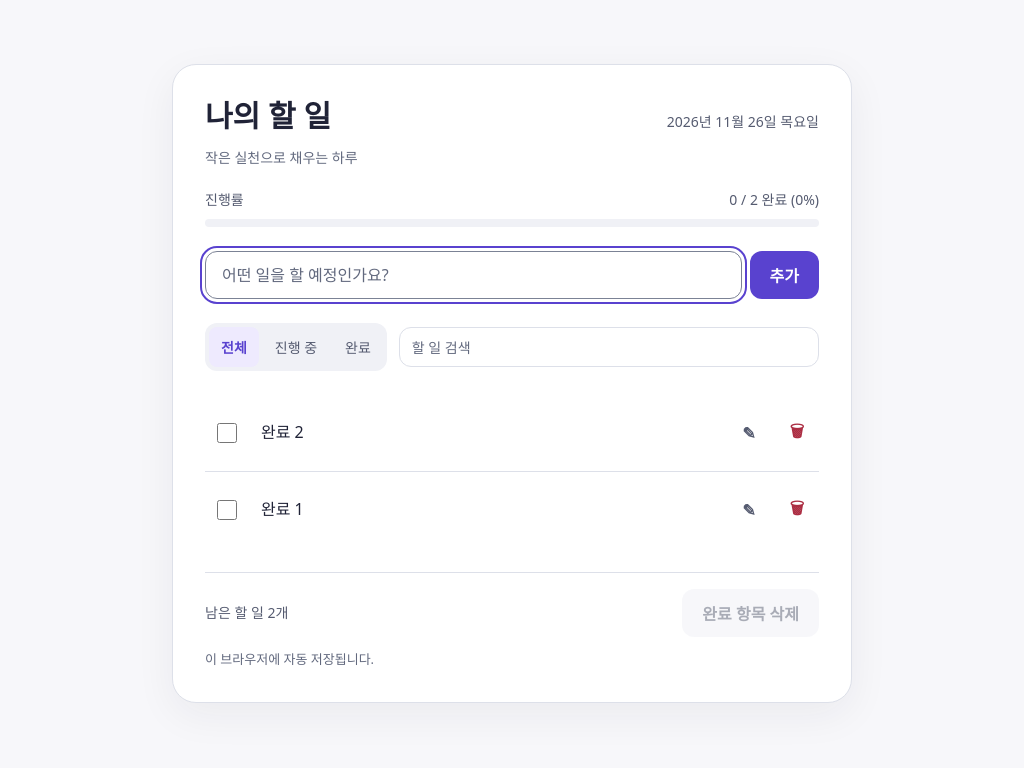
Test: App 통합 및 접근성 테스트 › 완료 항목 일괄 삭제 버튼 클릭 시 확인 다이얼로그가 뜨고 취소/삭제가 동작한다
Earlier steps of the test are not shown.
Click the checkbox labelled "완료 1" at x=227, y=510, box 217,500 -> 237,520
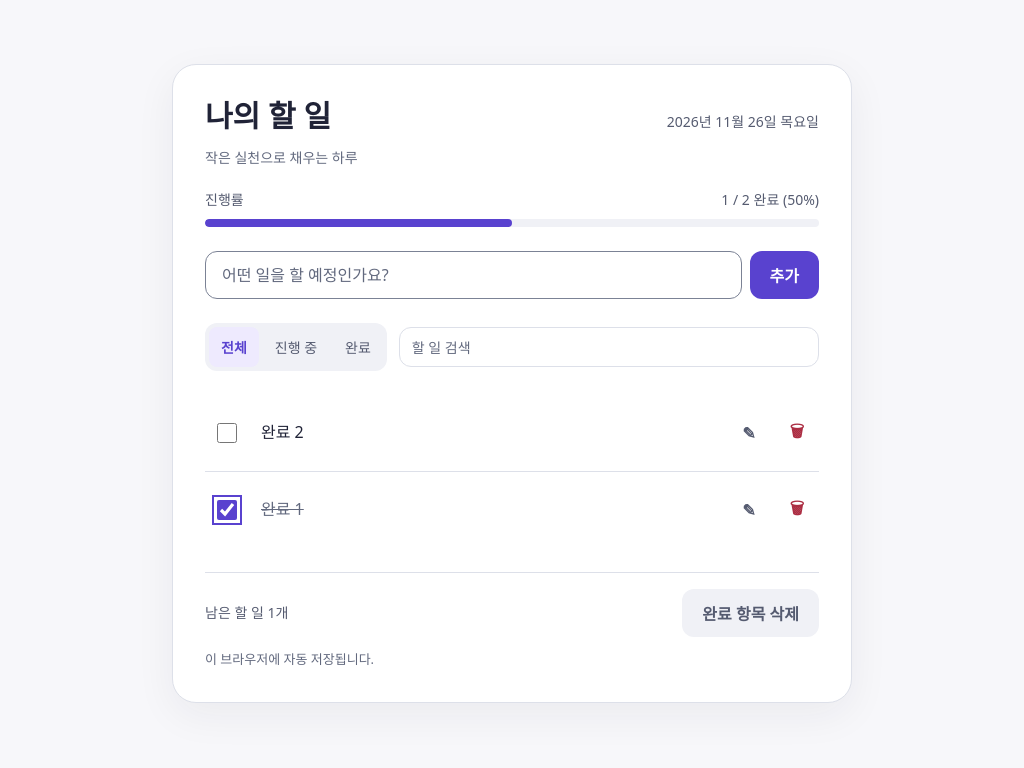
Click the checkbox labelled "완료 2" at x=227, y=433, box 217,423 -> 237,443
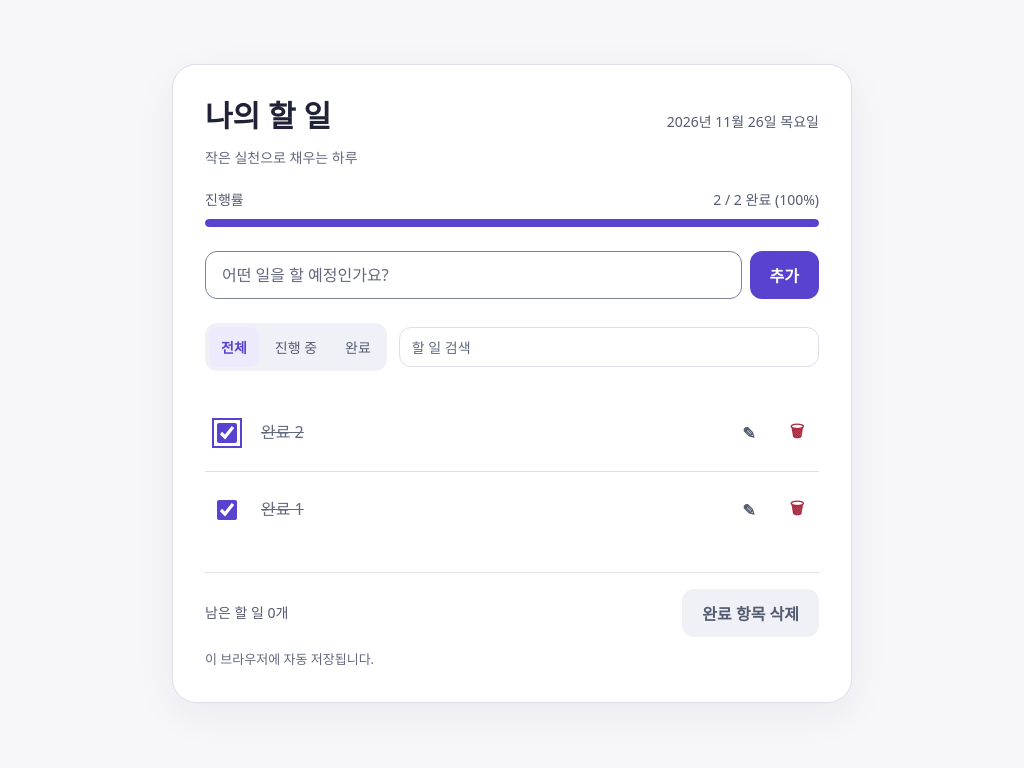
Click the button with aria-label "일괄 삭제" at x=751, y=613, box 682,589 -> 819,637
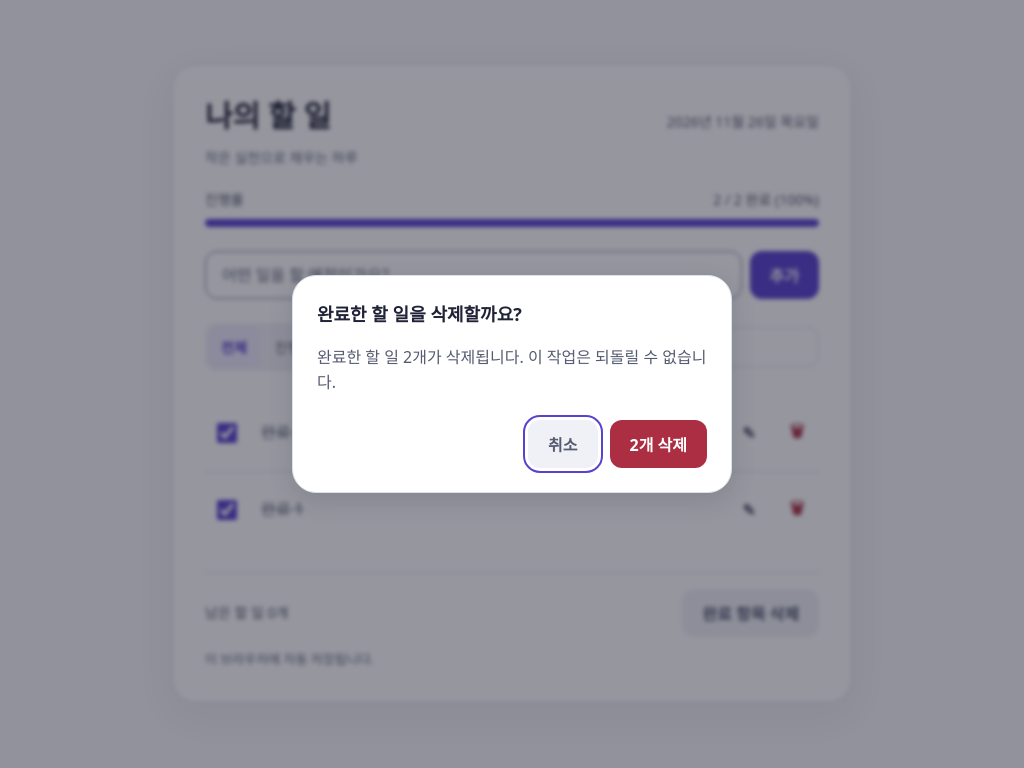
expect the heading "완료한 할 일을 삭제할까요?" is shown: met, box 317,302 -> 522,326
expect the text "완료한 할 일 2개가 삭제됩니다. 이 작업은 되돌릴 수 없습니다." is shown: met, box 317,345 -> 707,396
Click the button "취소" at x=563, y=444, box 528,420 -> 598,468
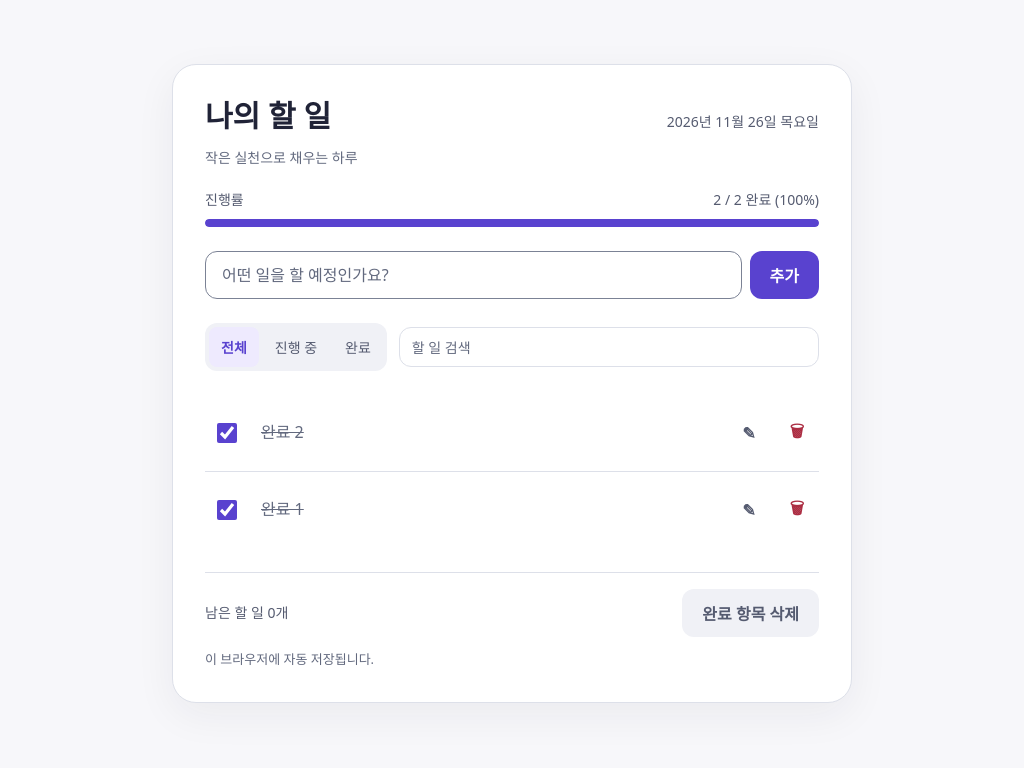
expect the text "완료 1" is shown: met, box 261,498 -> 304,520
expect the text "완료 2" is shown: met, box 261,422 -> 304,444
// 다시 열고 확인 삭제 클릭
Click the button with aria-label "일괄 삭제" at x=751, y=613, box 682,589 -> 819,637
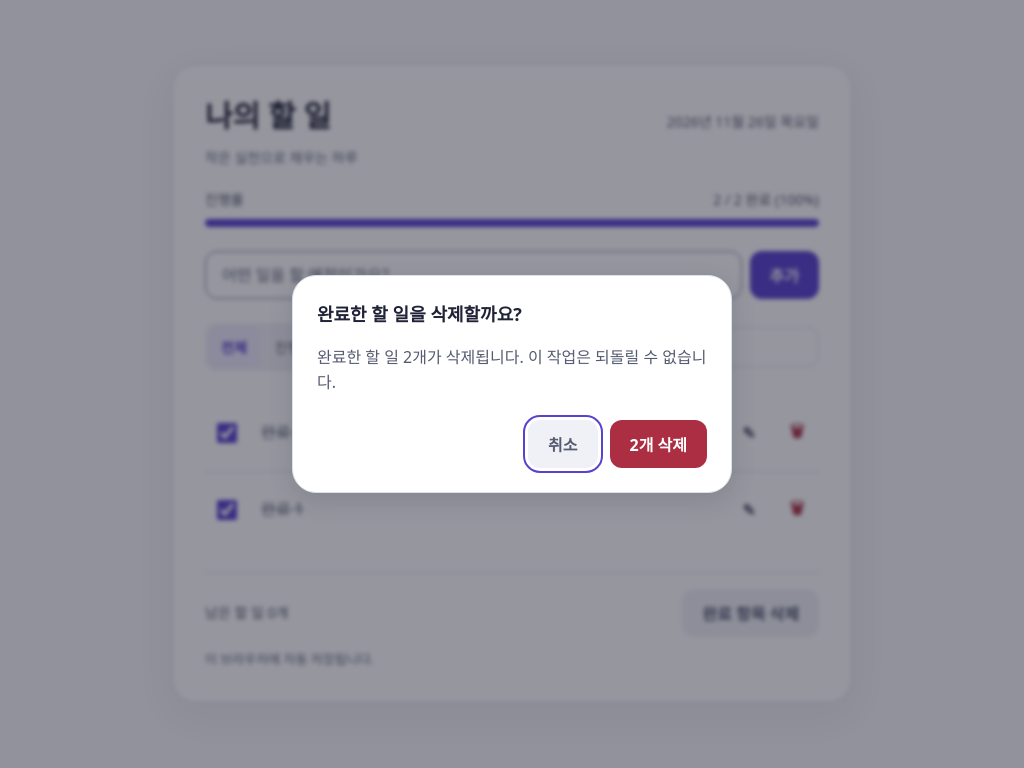
Click the button "2개 삭제" at x=658, y=444, box 610,420 -> 707,468
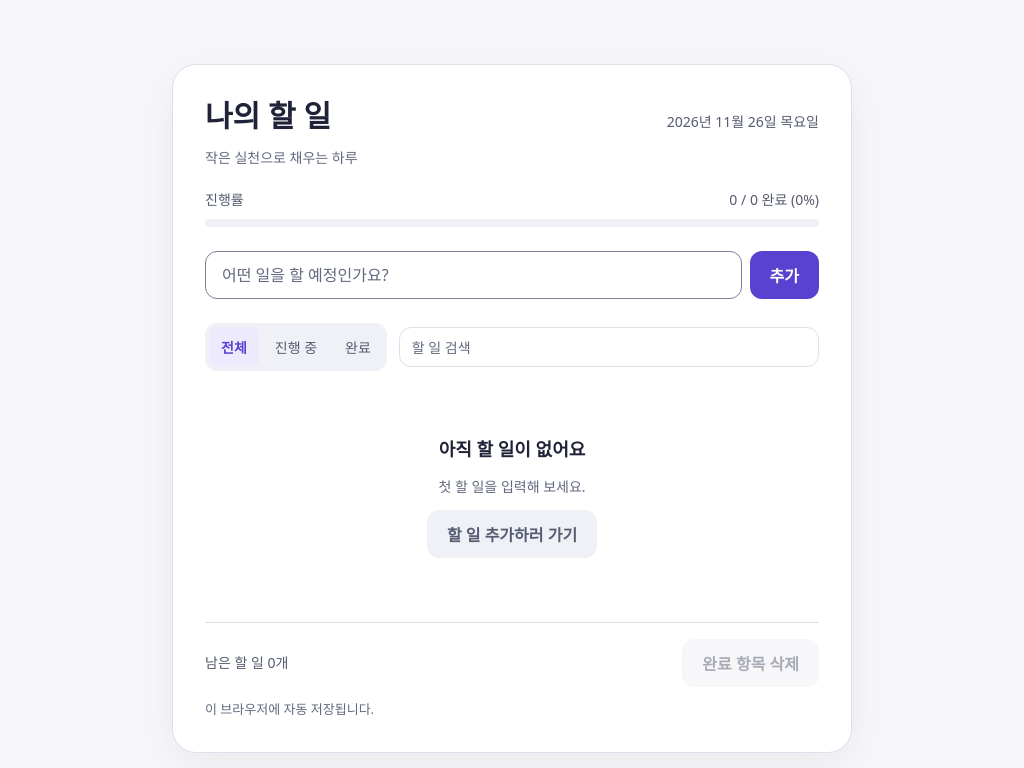
expect the text "완료 1" is gone: met
expect the text "완료 2" is gone: met
